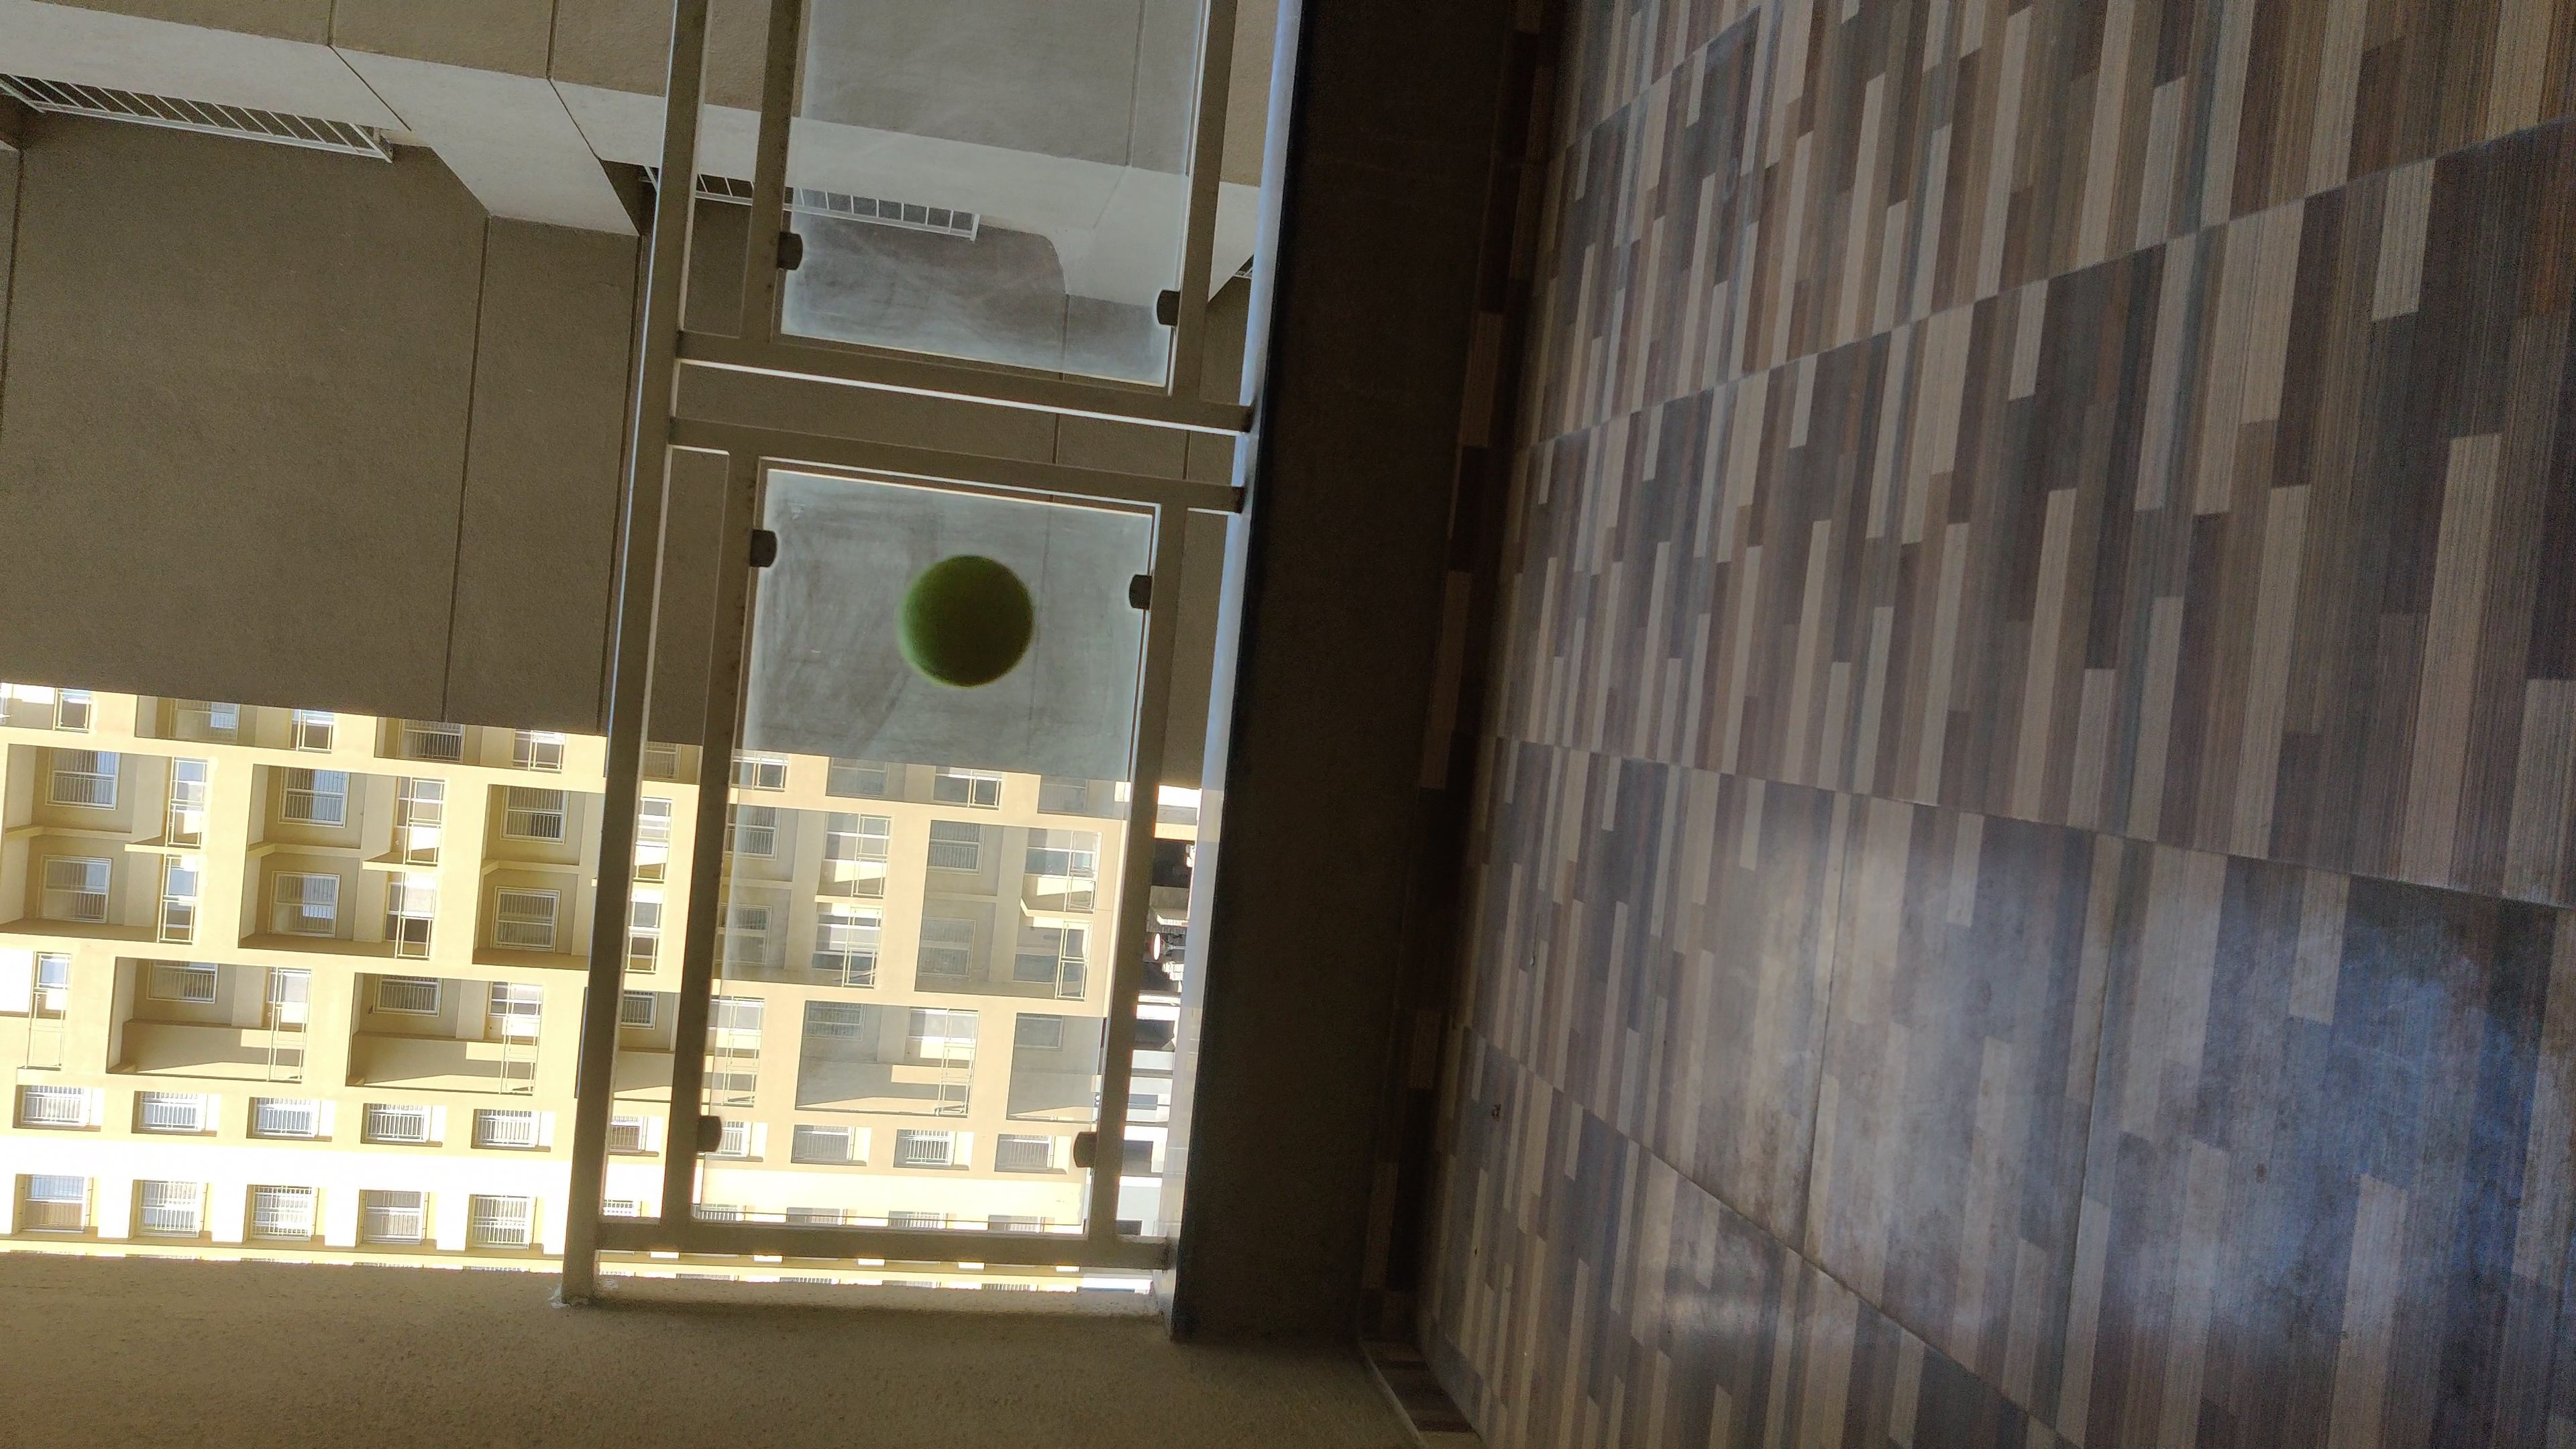Tennis-Ball: (899, 554, 1033, 688)
